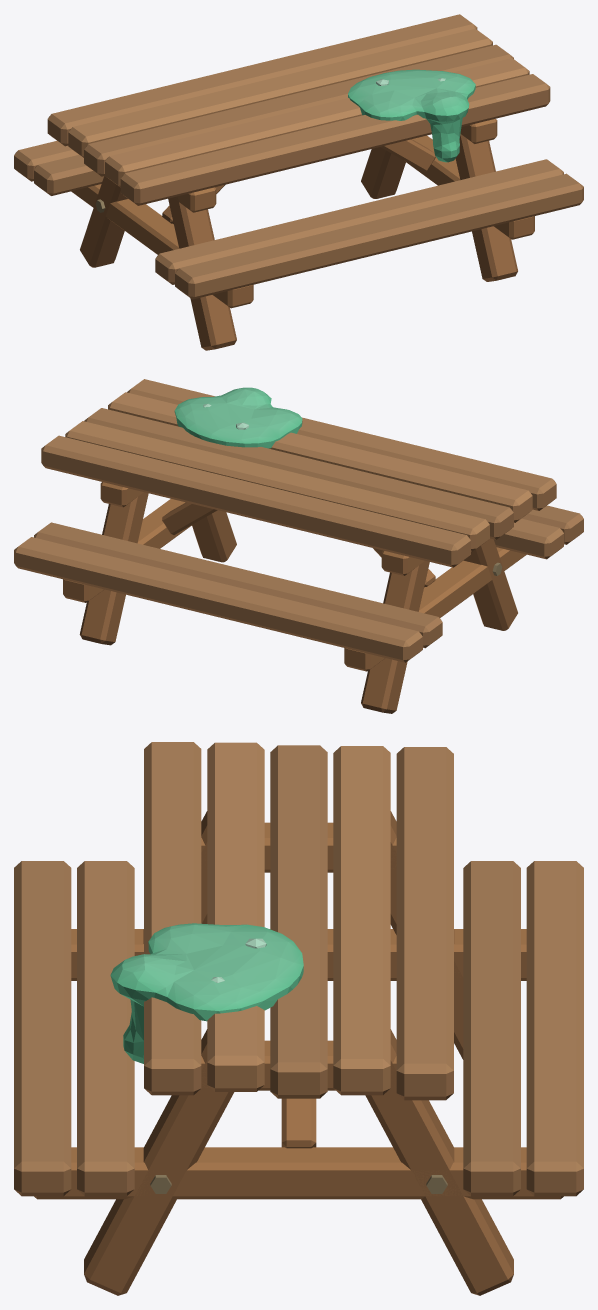
File: ranch_picnic_table.fbx
The picture shows the model from 3 angles, top to bottom: view 1: azimuth 30°, elevation 25°; view 2: azimuth 150°, elevation 25°; view 3: azimuth 270°, elevation 25°; orthographic projection. The views are drawn at different scales.
Visible parts, largest first — view 1: ranch_picnic_table; view 2: ranch_picnic_table; view 3: ranch_picnic_table.
Part boxes in pixels (bbox=[...]): ranch_picnic_table: bbox=[14, 14, 583, 350]; ranch_picnic_table: bbox=[14, 379, 583, 713]; ranch_picnic_table: bbox=[14, 742, 583, 1295].
Bounding box in the file's own units: 8.12 × 3.41 × 5.96.
